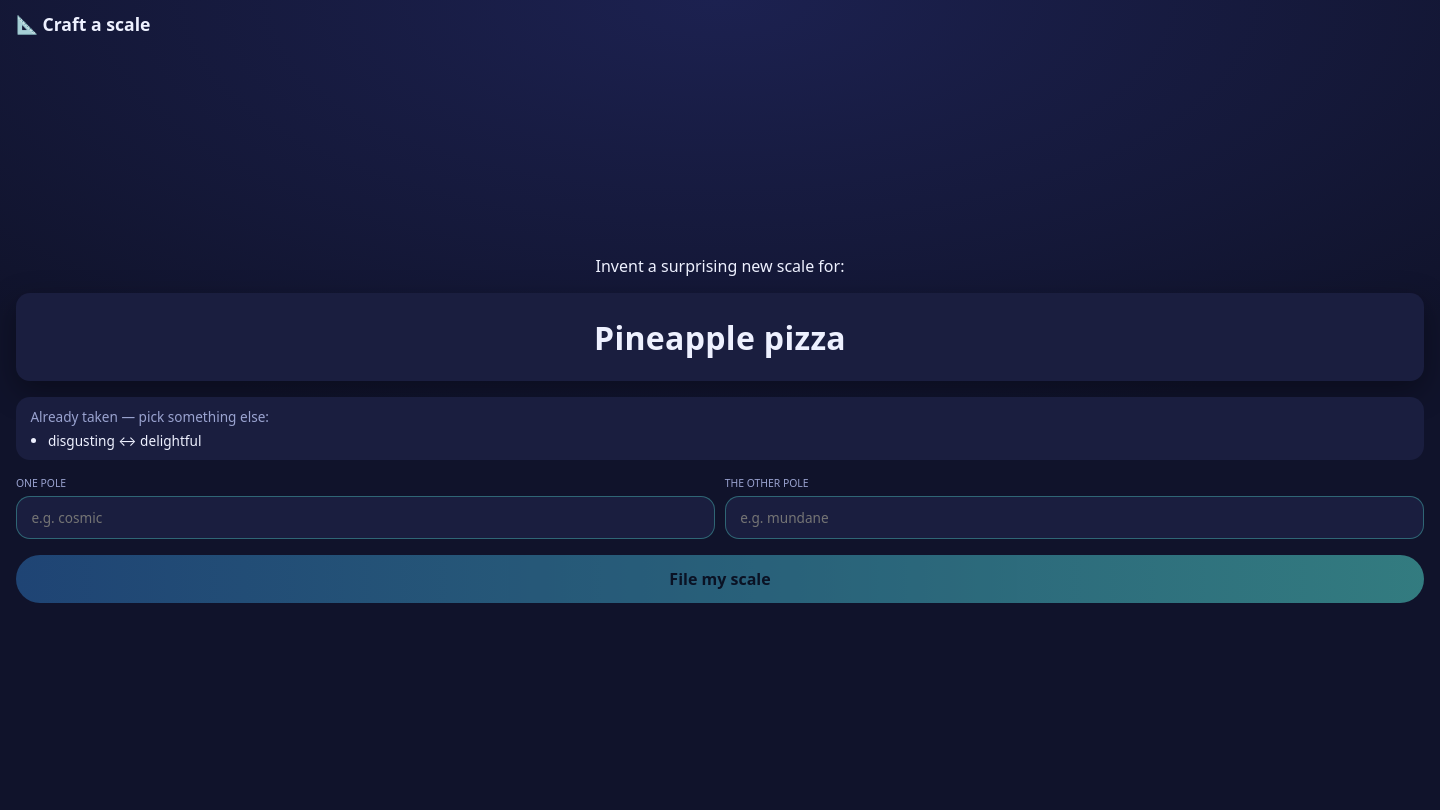
Test case: ScaleRequestScreen › shows the prompt with examples and files a new scale
Expected: the heading "Pineapple pizza" is shown, [594, 316, 846, 359]
Expected: the text "Already taken — pick something else:" is shown, [30, 407, 269, 426]
In the field labelled "One pole": (366, 517) [16, 496, 715, 539], type "cosmic"
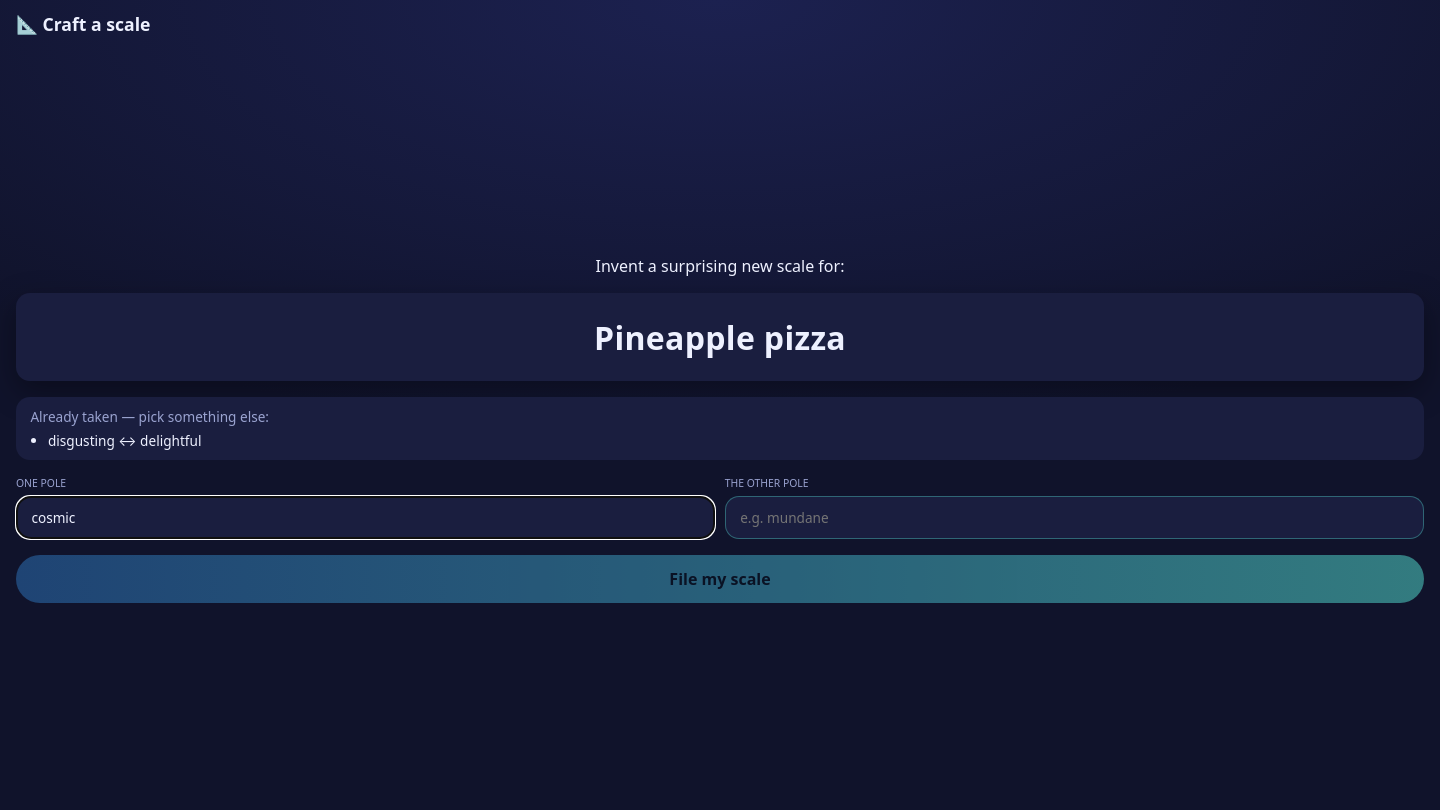
In the field labelled "The other pole": (1074, 517) [725, 496, 1424, 539], type "mundane"
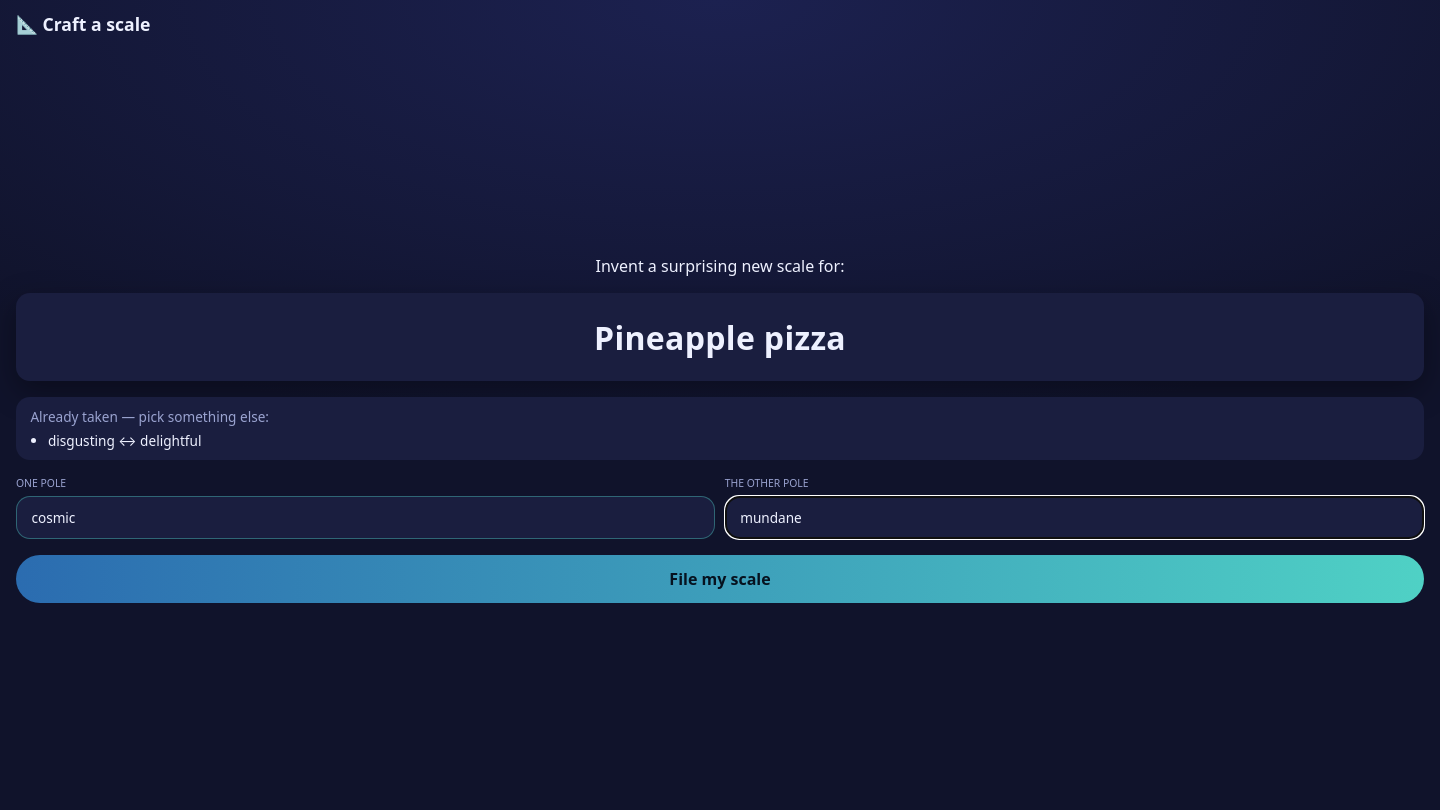
Click the button "File my scale": (720, 579) [16, 555, 1424, 603]
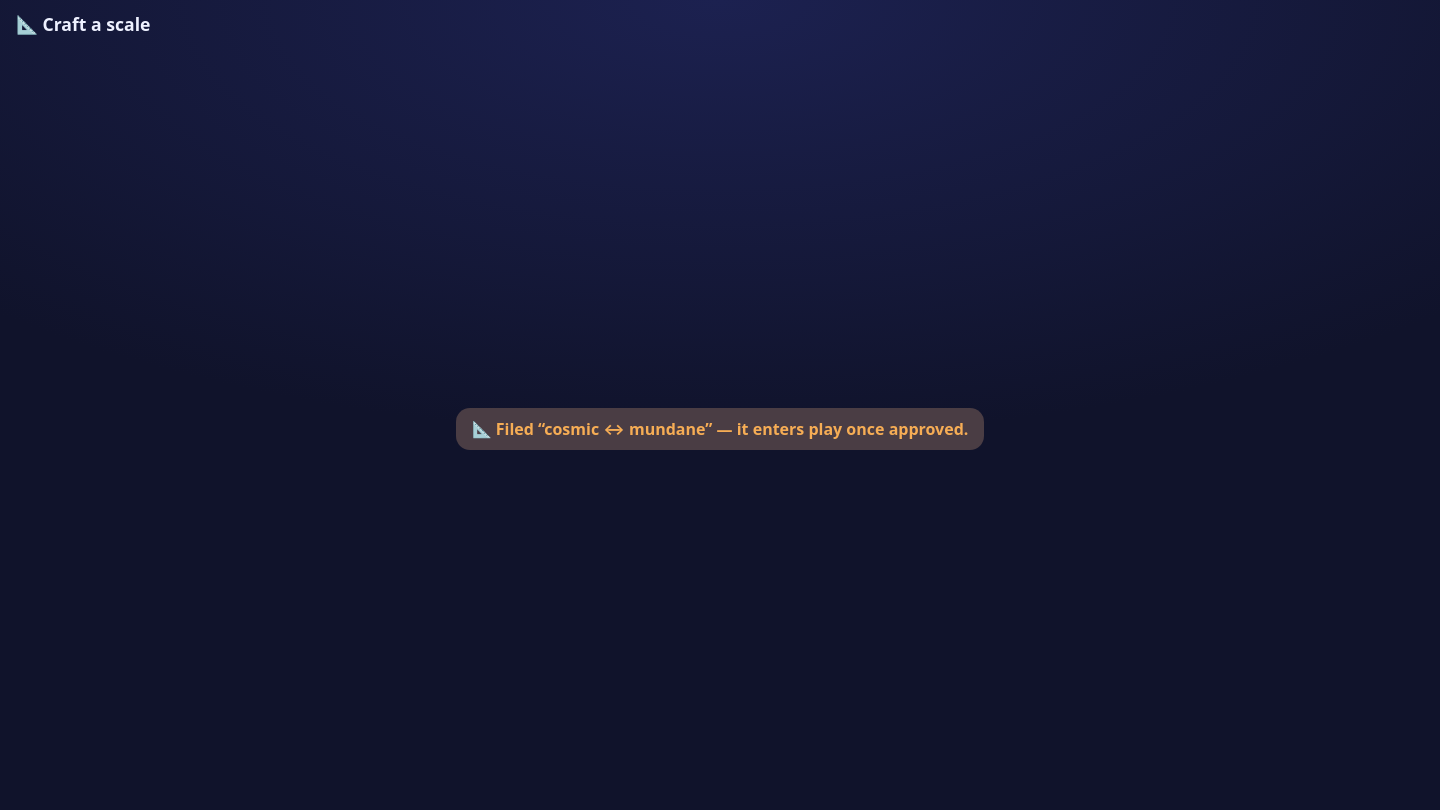
Now the text "📐 Filed “cosmic ↔ mundane” — it enters play once approved." is shown, box [456, 408, 984, 450]
